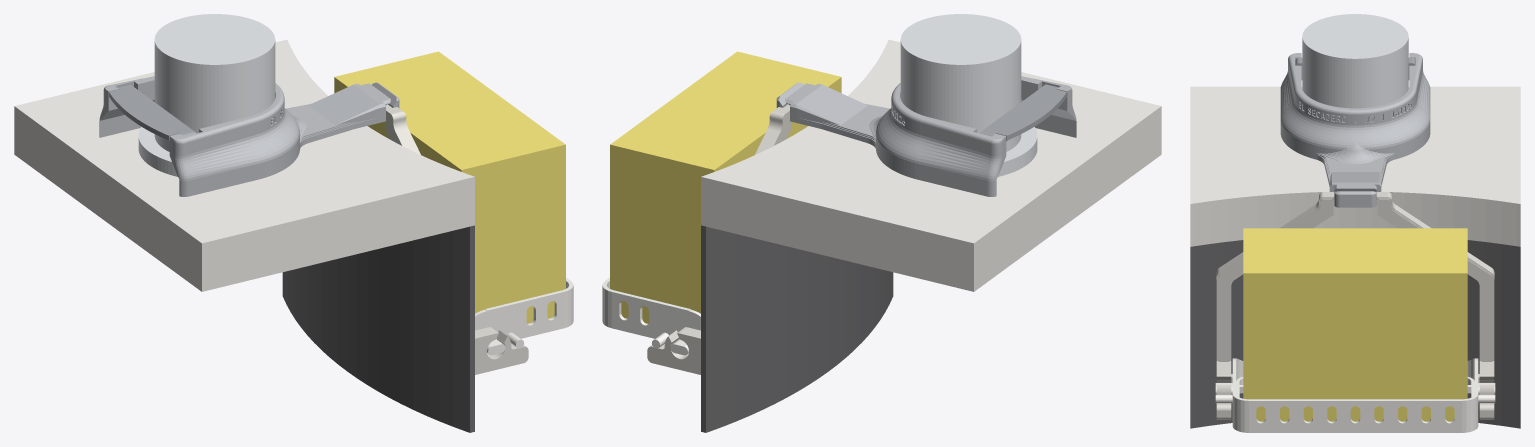
The model's file is el_secadero_v2_abajo.glb.
3 views of the same model, side by side, from view 1: azimuth 30°, elevation 25°; view 2: azimuth 150°, elevation 25°; view 3: azimuth 270°, elevation 25° (orthographic). The views are drawn at different scales.
Parts seen in each view (by area): view 1: el_secadero_v2_abajo.glb_0, el_secadero_v2_abajo.glb_1, el_secadero_v2_abajo.glb_8, el_secadero_v2_abajo.glb_4, el_secadero_v2_abajo.glb_3, el_secadero_v2_abajo.glb_7, el_secadero_v2_abajo.glb_6, el_secadero_v2_abajo.glb_5, el_secadero_v2_abajo.glb_2; view 2: el_secadero_v2_abajo.glb_0, el_secadero_v2_abajo.glb_1, el_secadero_v2_abajo.glb_8, el_secadero_v2_abajo.glb_4, el_secadero_v2_abajo.glb_3, el_secadero_v2_abajo.glb_7, el_secadero_v2_abajo.glb_6, el_secadero_v2_abajo.glb_5, el_secadero_v2_abajo.glb_2; view 3: el_secadero_v2_abajo.glb_8, el_secadero_v2_abajo.glb_0, el_secadero_v2_abajo.glb_1, el_secadero_v2_abajo.glb_4, el_secadero_v2_abajo.glb_3, el_secadero_v2_abajo.glb_7, el_secadero_v2_abajo.glb_6.
Part boxes in pixels (x1,y1,x2,y2): el_secadero_v2_abajo.glb_0: (14,39,474,291); el_secadero_v2_abajo.glb_1: (282,225,474,432); el_secadero_v2_abajo.glb_8: (334,51,565,323); el_secadero_v2_abajo.glb_4: (99,76,399,196); el_secadero_v2_abajo.glb_3: (154,14,275,151); el_secadero_v2_abajo.glb_7: (475,277,573,355); el_secadero_v2_abajo.glb_6: (361,84,528,374); el_secadero_v2_abajo.glb_5: (109,84,195,141); el_secadero_v2_abajo.glb_2: (138,127,177,176); el_secadero_v2_abajo.glb_0: (701,39,1161,291); el_secadero_v2_abajo.glb_1: (701,225,893,432); el_secadero_v2_abajo.glb_8: (610,51,841,323); el_secadero_v2_abajo.glb_4: (776,76,1076,196); el_secadero_v2_abajo.glb_3: (900,14,1021,151); el_secadero_v2_abajo.glb_7: (602,277,700,355); el_secadero_v2_abajo.glb_6: (647,84,814,374); el_secadero_v2_abajo.glb_5: (980,84,1066,141); el_secadero_v2_abajo.glb_2: (998,127,1037,176); el_secadero_v2_abajo.glb_8: (1243,228,1467,421); el_secadero_v2_abajo.glb_0: (1190,86,1520,246); el_secadero_v2_abajo.glb_1: (1190,240,1520,428); el_secadero_v2_abajo.glb_4: (1280,53,1430,207); el_secadero_v2_abajo.glb_3: (1302,14,1408,108); el_secadero_v2_abajo.glb_7: (1215,358,1495,432); el_secadero_v2_abajo.glb_6: (1216,192,1494,419).
Bounding box in the file's own units: 0.1734 × 0.15 × 0.14.
